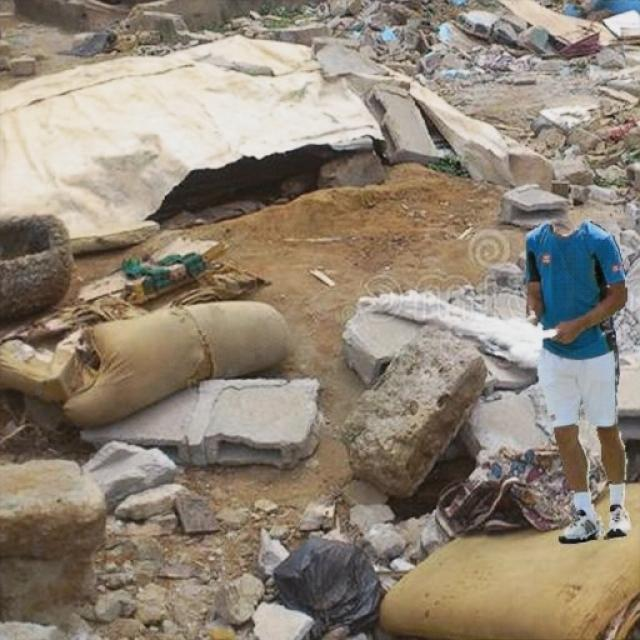Person in Rubble: (526, 222, 630, 542)
